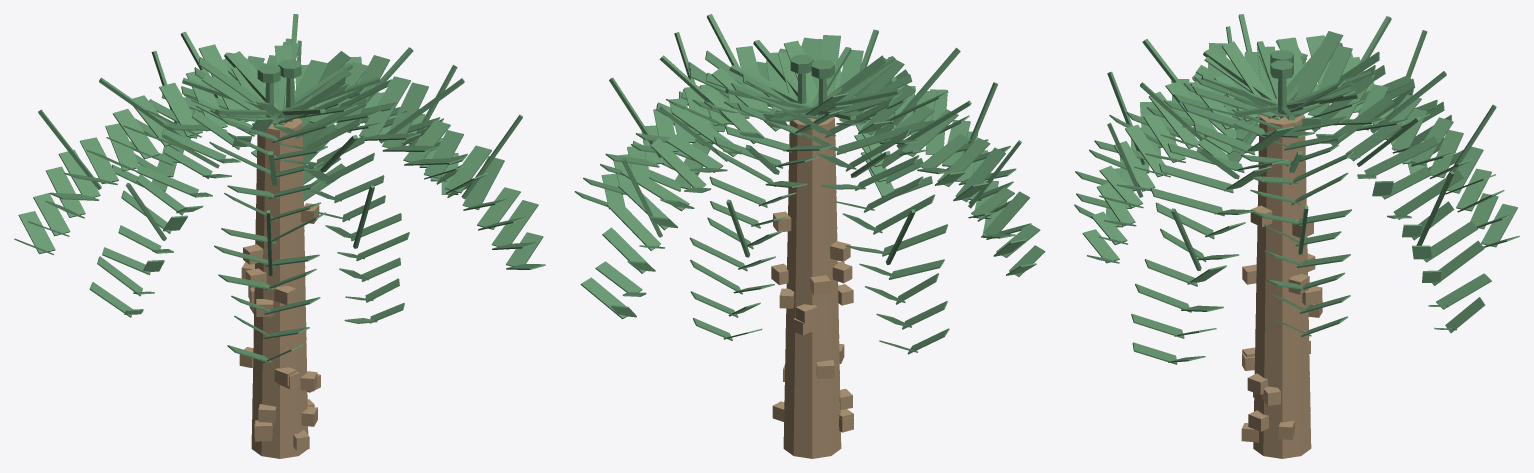
Rendered from palm.glb.
3 views of the same model, side by side, from view 1: azimuth 30°, elevation 25°; view 2: azimuth 150°, elevation 25°; view 3: azimuth 270°, elevation 25° (orthographic).
Visible parts, largest first — view 1: botanical-glasshouse-and-palm-house-tree-fern; view 2: botanical-glasshouse-and-palm-house-tree-fern; view 3: botanical-glasshouse-and-palm-house-tree-fern.
Boxes of the visible parts, <box> form: botanical-glasshouse-and-palm-house-tree-fern: <box>14,14,545,458</box>; botanical-glasshouse-and-palm-house-tree-fern: <box>574,14,1045,458</box>; botanical-glasshouse-and-palm-house-tree-fern: <box>1074,14,1519,458</box>.
Size of the model in its own units: 2.87 by 2.46 by 2.57.
